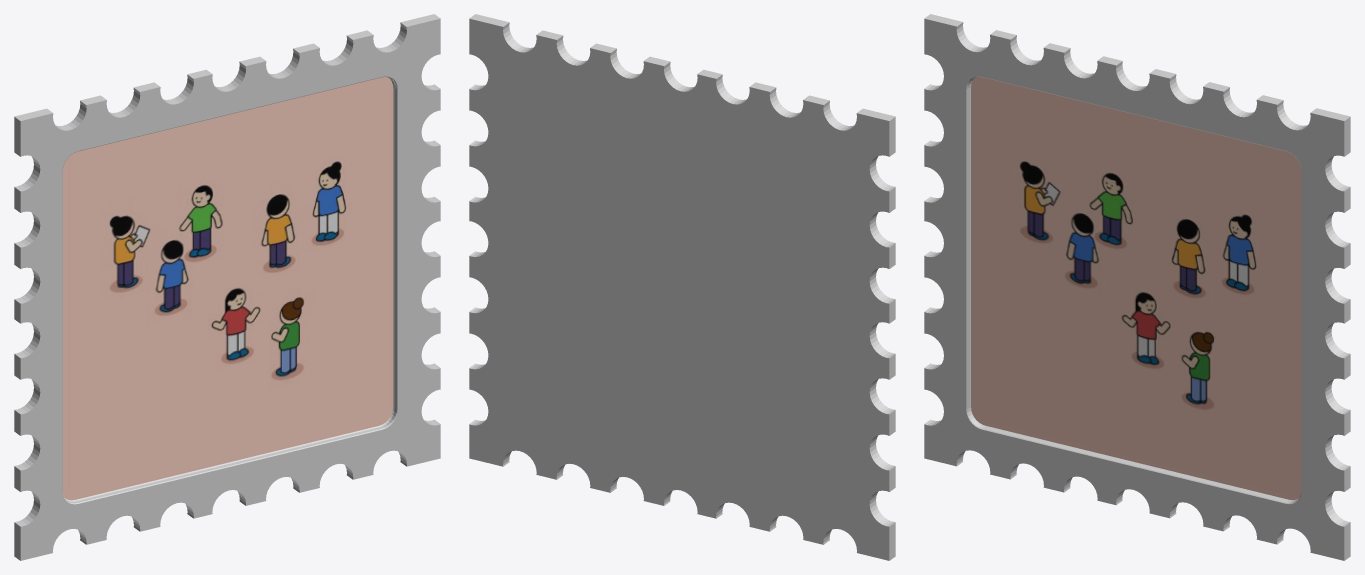
The model's file is B_Olivia_17.glb.
3 renders of one model, left to right at view 1: azimuth 30°, elevation 25°; view 2: azimuth 150°, elevation 25°; view 3: azimuth 330°, elevation 25°, orthographic.
Parts seen in each view (by area): view 1: Plane017, Plane016; view 2: Plane016; view 3: Plane017, Plane016.
Boxes of the visible parts, bbox=[...] form: Plane017: bbox=[63, 77, 393, 500]; Plane016: bbox=[14, 14, 440, 560]; Plane016: bbox=[469, 14, 895, 560]; Plane017: bbox=[971, 77, 1301, 499]; Plane016: bbox=[924, 14, 1350, 560].
Size of the model in its own units: 0.3 by 0.3 by 0.00781.
2 materials, 1 textured.
